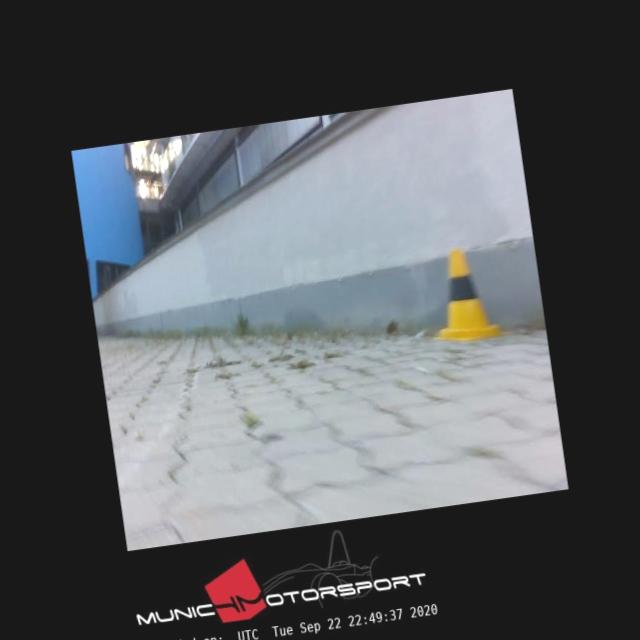yellow_cone: (424, 246, 501, 344)
